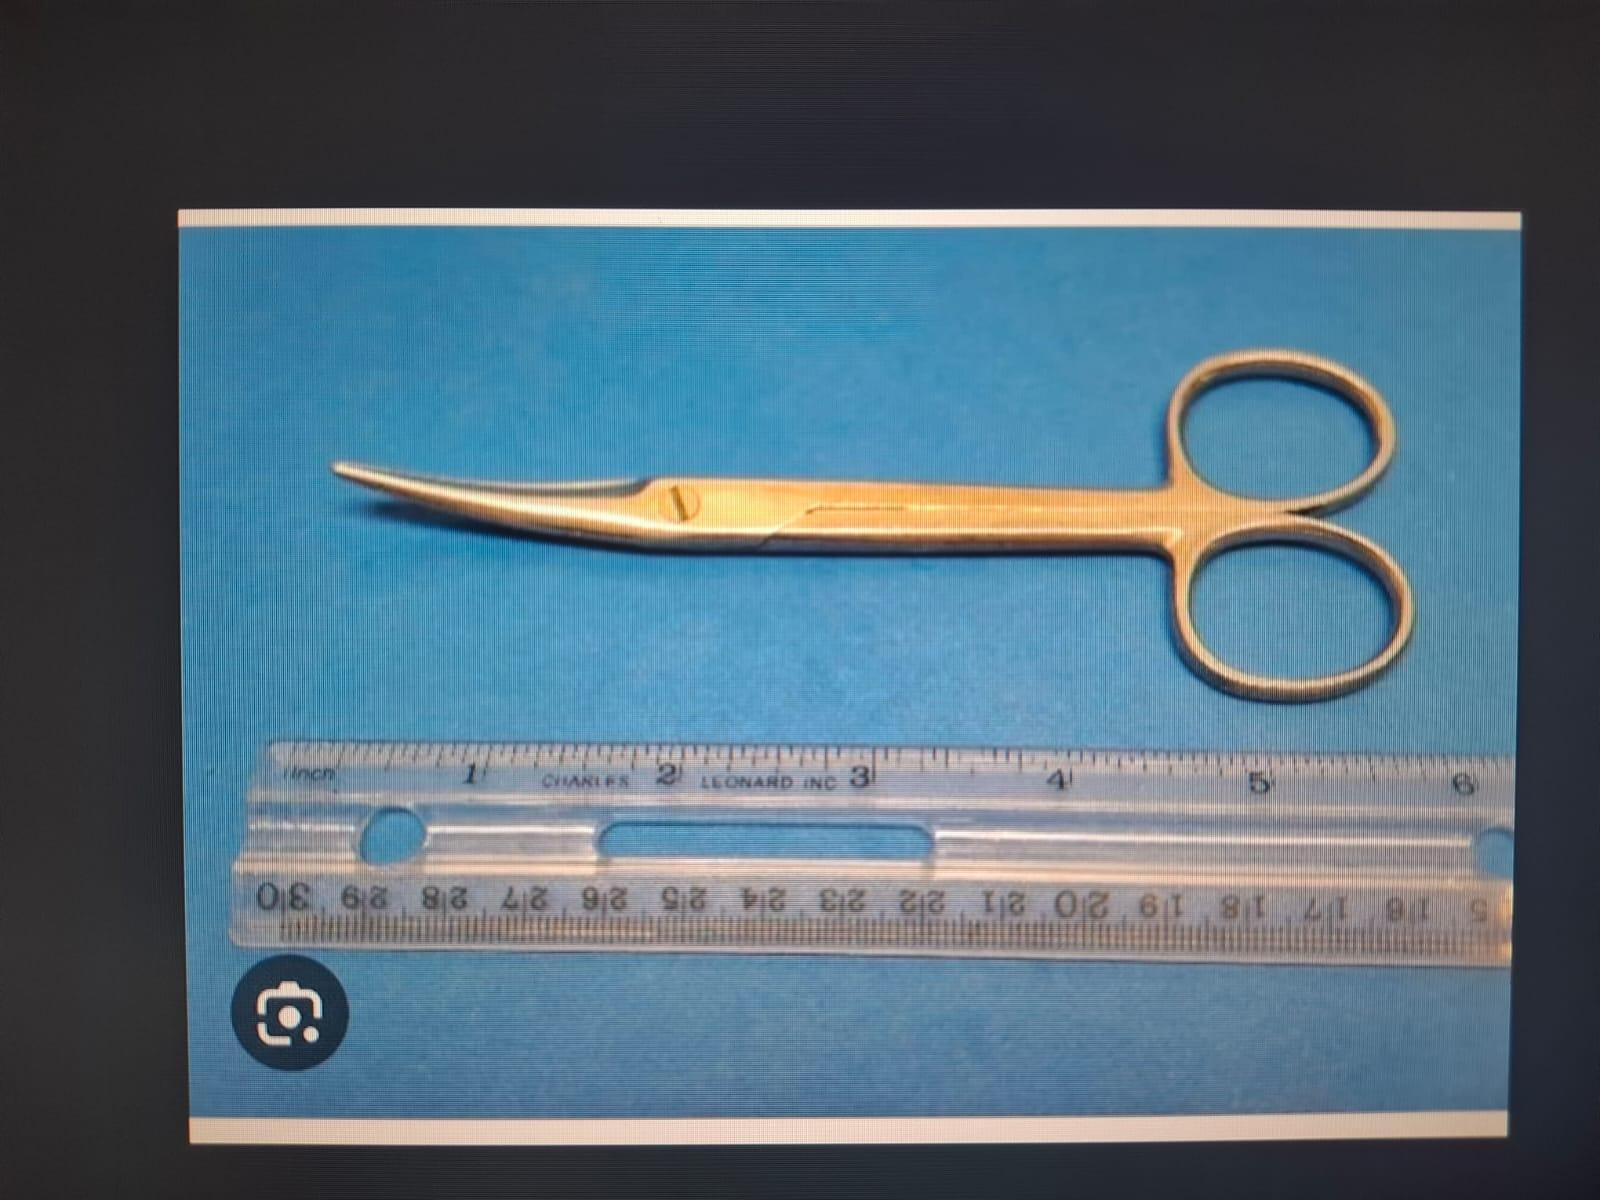Curved Mayo: (308, 330, 1428, 704)
